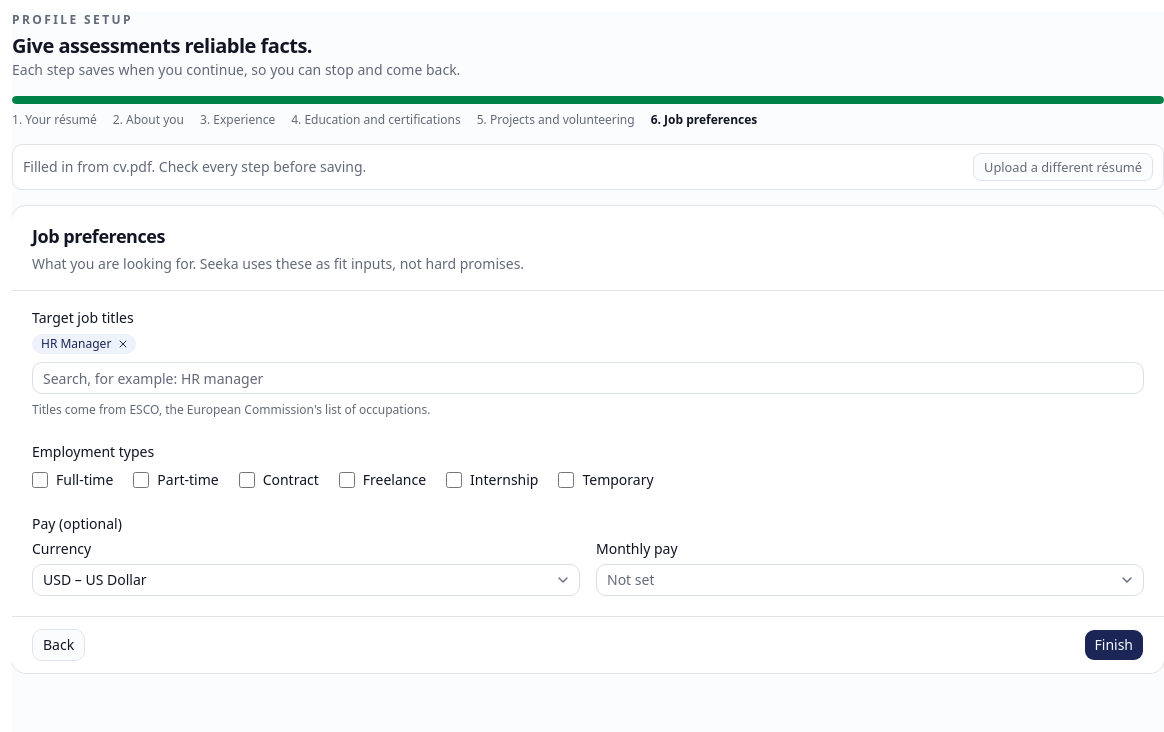
it: OnboardingPage › steps › shows a saved step as the user saved it, not as the résumé had it
The width and height of the screenshot is (1164, 732).
Click the button "Back" at [59, 645], box [32,629,85,661]
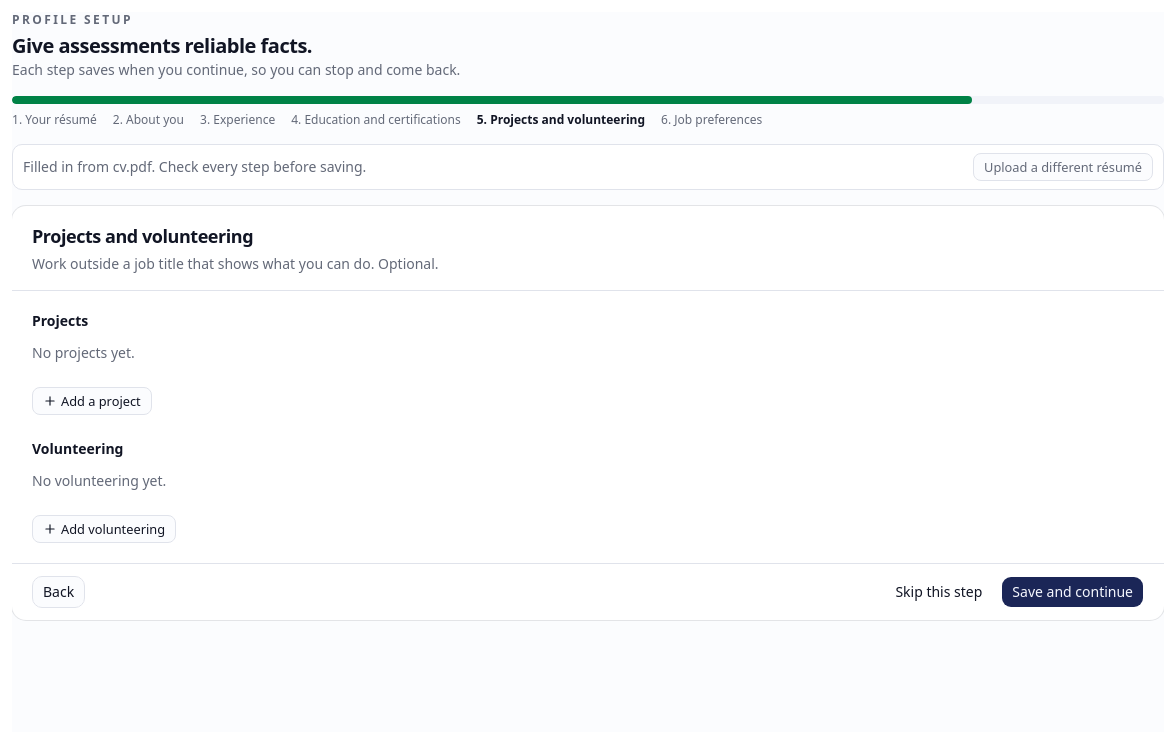
Click the button "Back" at [59, 592], box [32,576,85,608]
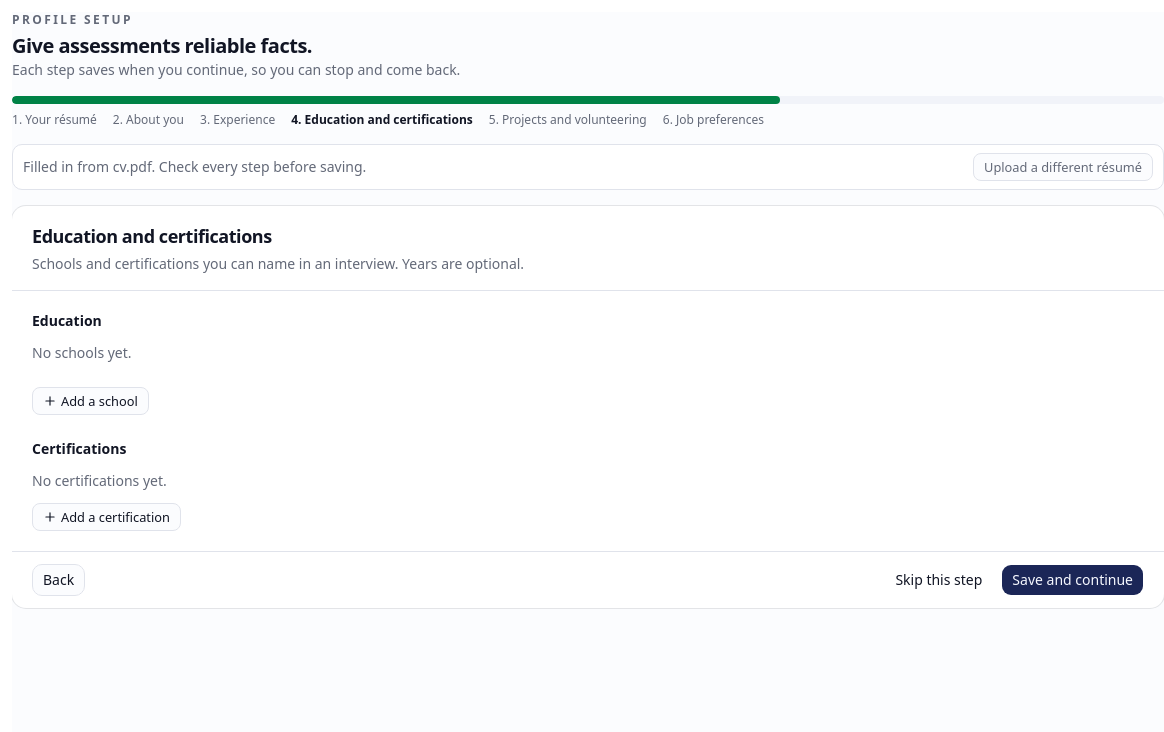
Click the button "Back" at [59, 580], box [32,564,85,596]
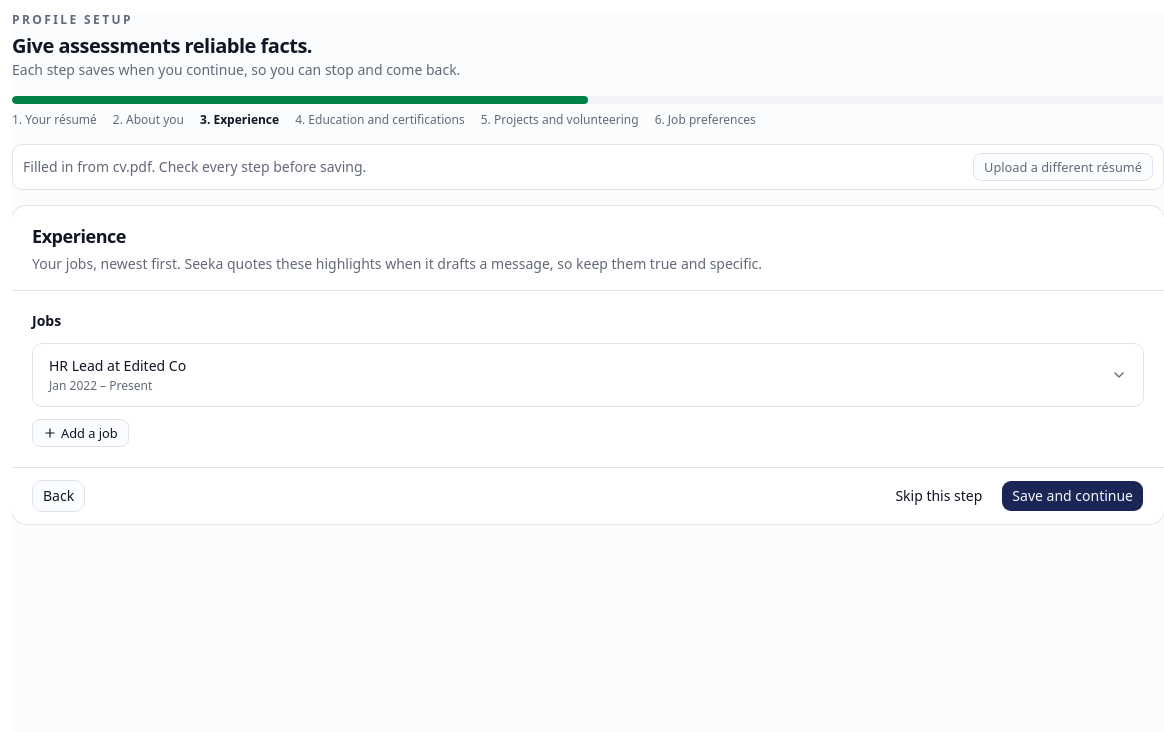
Check: the heading "Experience" is shown, box [32,224,126,248]
Click the button "HR Lead at Edited Co Jan 2022 – Present" at [118, 366], box [33,344,1143,406]
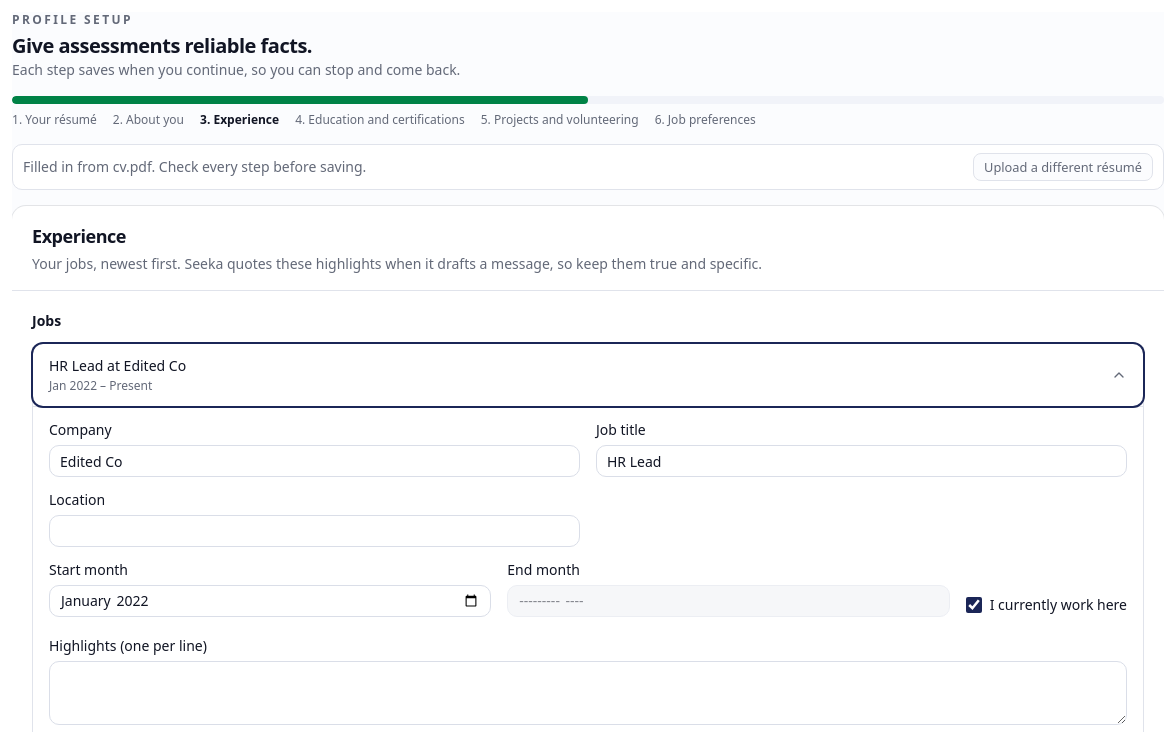
Check: the field labelled "Company" holds "Edited Co", box [49,445,580,477]
